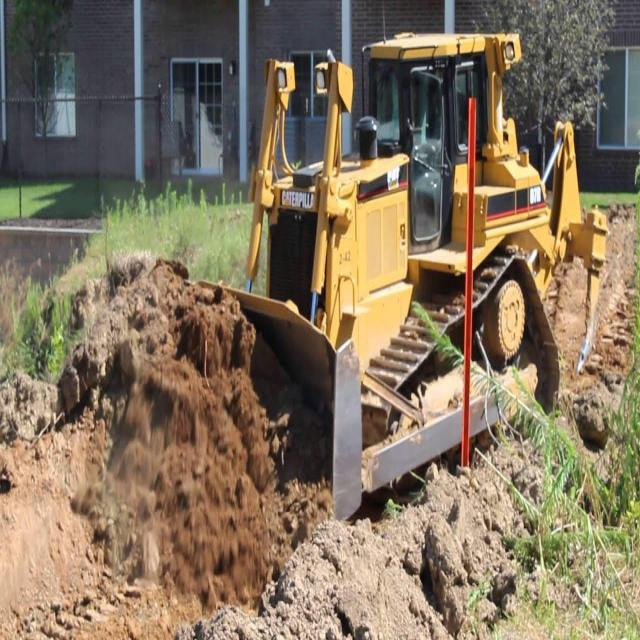Bulldozer: (134, 1, 626, 541)
